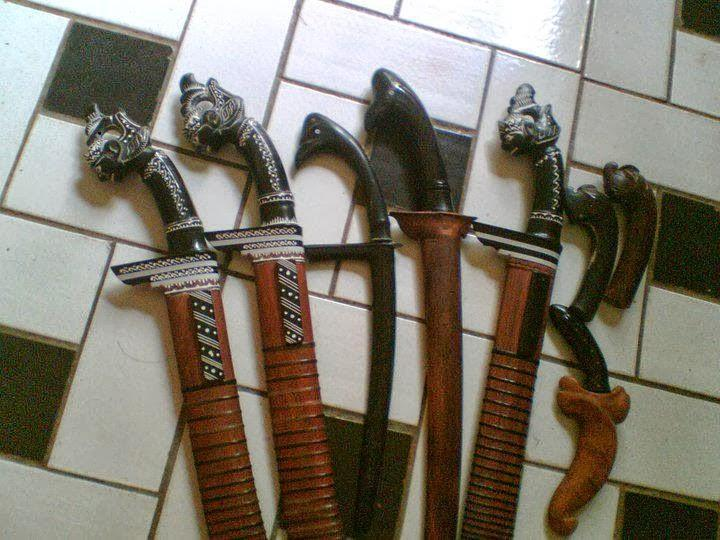espada: (63, 81, 272, 539), (185, 109, 345, 539), (347, 53, 474, 539), (466, 62, 578, 539)
